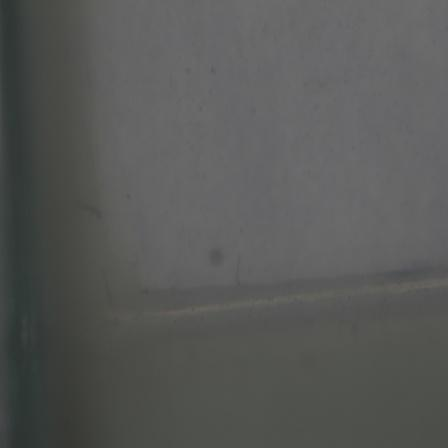Jentik-Nyamuk: (72, 193, 103, 224)
